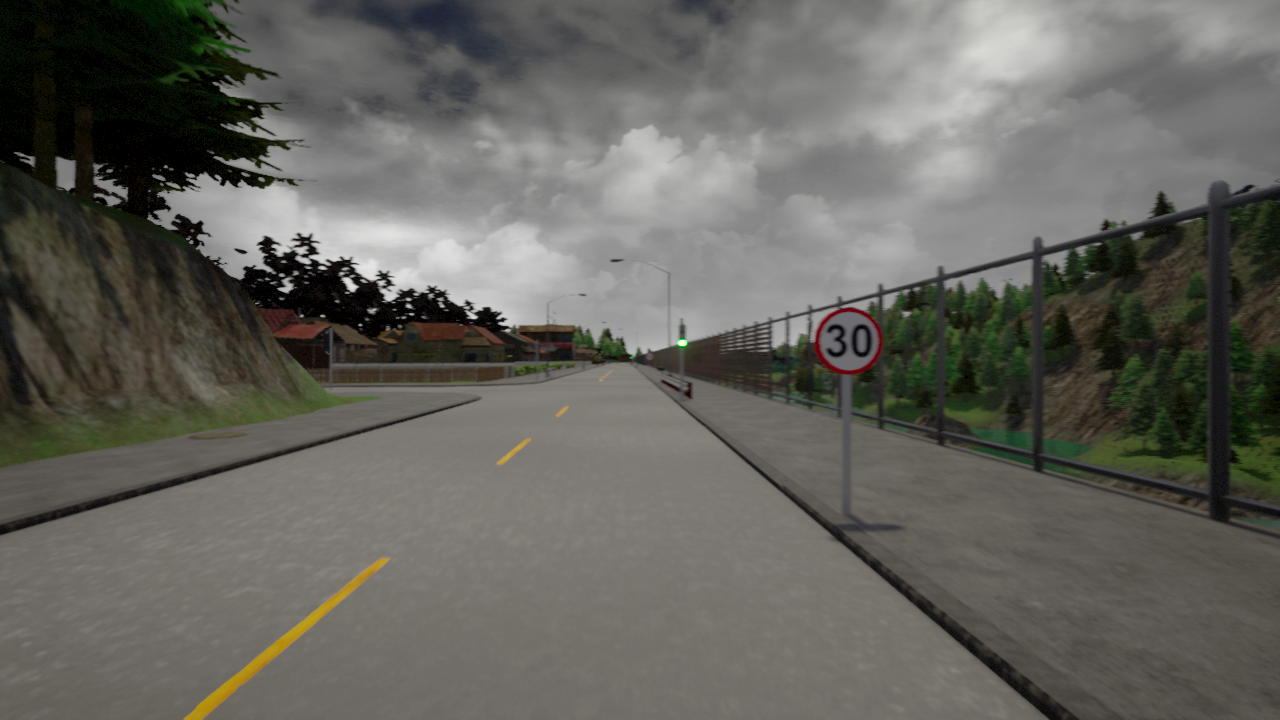green: (677, 323, 689, 348)
